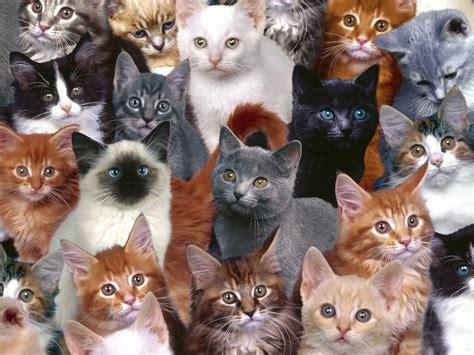cat: (334, 160, 433, 355), (49, 120, 172, 268), (210, 125, 334, 269), (59, 214, 172, 355), (175, 1, 291, 130), (185, 224, 294, 355), (376, 85, 473, 228), (113, 49, 208, 176), (291, 65, 380, 198), (300, 242, 404, 355), (7, 30, 102, 141), (1, 124, 77, 260), (372, 8, 474, 106), (322, 1, 415, 80), (105, 1, 179, 74), (16, 1, 101, 63), (1, 247, 63, 327)
